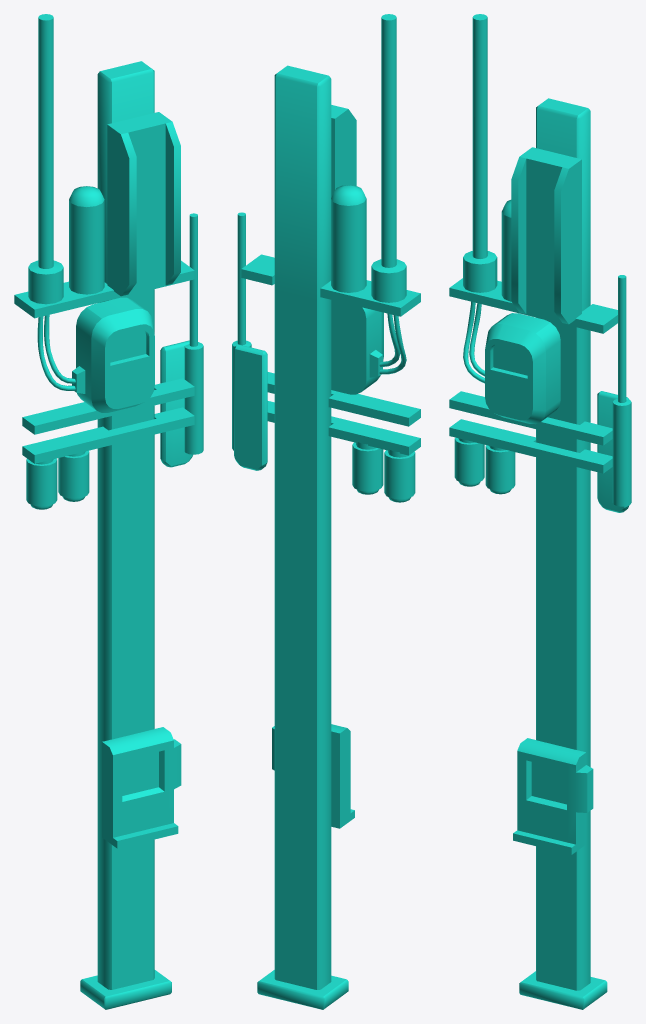
File: CableTower01.fbx
The picture shows the model from 3 angles, left to right: view 1: azimuth 30°, elevation 25°; view 2: azimuth 150°, elevation 25°; view 3: azimuth 330°, elevation 25°; orthographic projection. The views are drawn at different scales.
Visible parts, largest first — view 1: CableTower01; view 2: CableTower01; view 3: CableTower01.
Boxes of the visible parts, bbox=[...] form: CableTower01: bbox=[14, 14, 203, 1009]; CableTower01: bbox=[232, 14, 420, 1009]; CableTower01: bbox=[449, 14, 631, 1009].
Size of the model in its own units: 230 by 1233 by 96.31.
